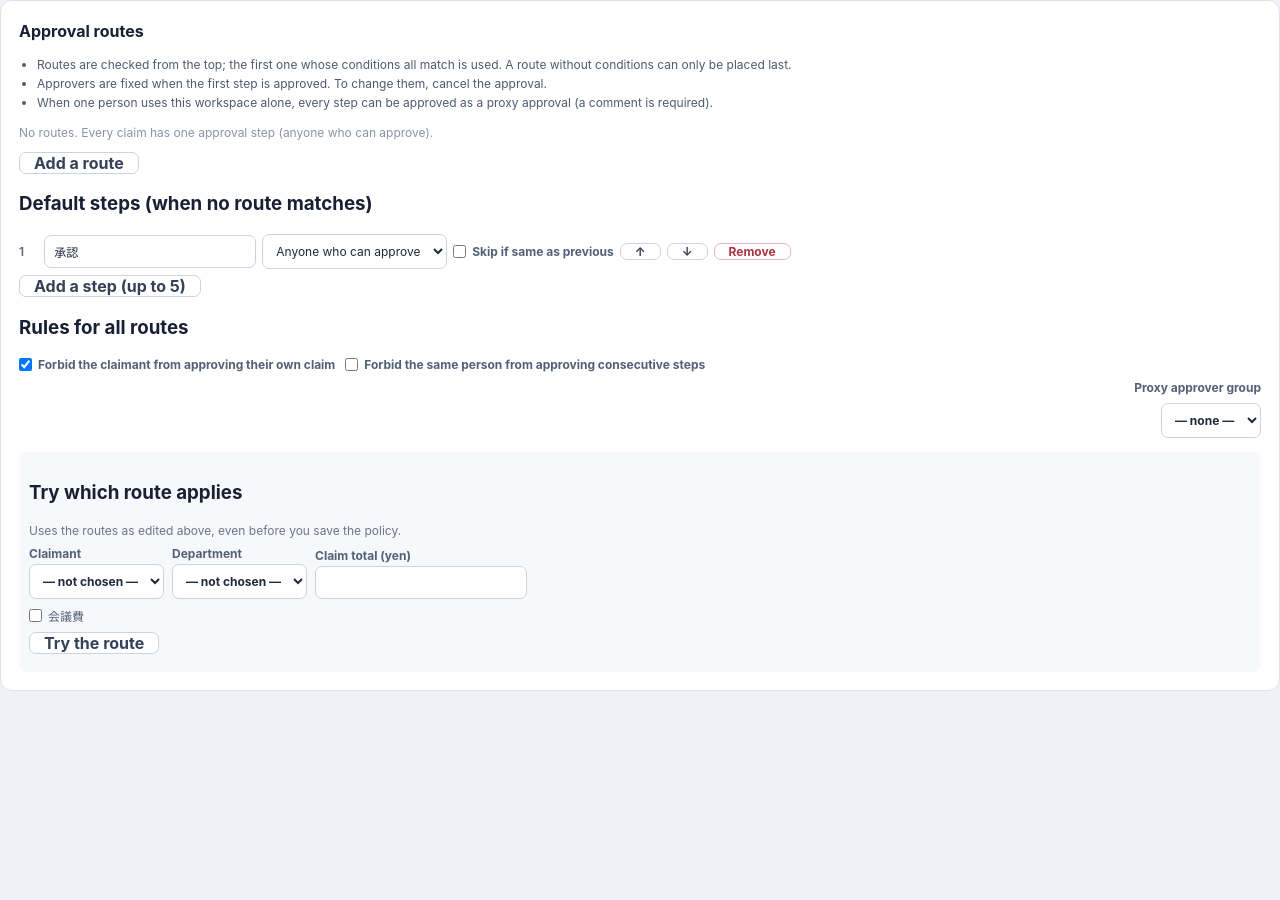
Test case: ApprovalRoutesSection › 正常: どの経路にも当たらなければ既定の段を使うと言う
Click the button "Try the route" at (94, 643), box [29,632,159,654]
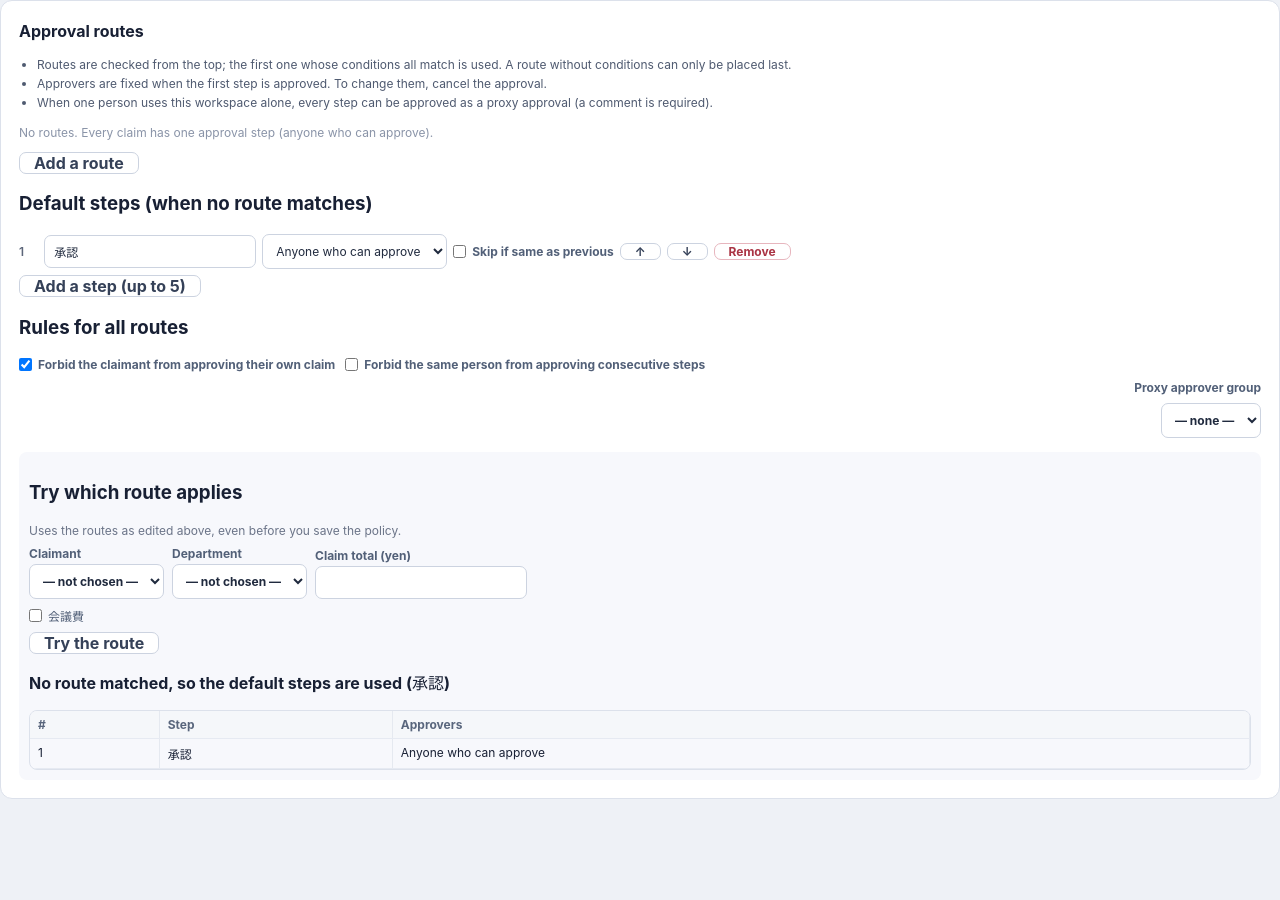
expect the text "No route matched, so the default steps are used (承認)" is shown: met, box [29,673,450,693]
expect the text "Anyone who can approve" is shown: met, box [392,738,1250,768]
